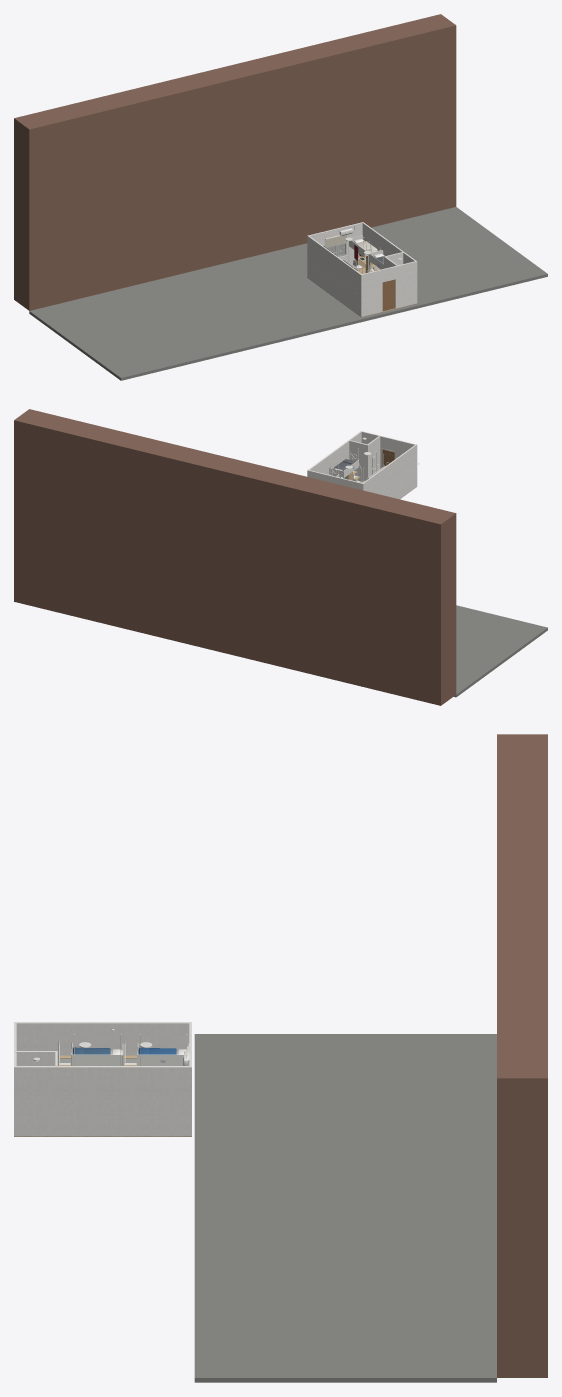
The model's file is dorm_room4_bakein.glb.
The picture shows the model from 3 angles, top to bottom: view 1: azimuth 30°, elevation 25°; view 2: azimuth 150°, elevation 25°; view 3: azimuth 270°, elevation 25°; orthographic projection. The views are drawn at different scales.
Visible parts, largest first — view 1: BAKEONLY_opposite, BAKEONLY_street, WALL_left_wall, WALL_front_wall, WALL_right_wall, WALL_back_wall; view 2: BAKEONLY_opposite, BAKEONLY_street, WALL_left_wall, WALL_right_wall, WALL_front_wall, WALL_bath_n_wall, WALL_back_wall; view 3: BAKEONLY_street, BAKEONLY_opposite, WALL_right_wall, WALL_left_wall.
Part boxes in pixels (x1,y1,x2,y2): BAKEONLY_opposite: [14, 14, 456, 310]; BAKEONLY_street: [29, 207, 547, 380]; WALL_left_wall: [307, 235, 362, 316]; WALL_front_wall: [362, 261, 415, 316]; WALL_right_wall: [362, 222, 417, 303]; WALL_back_wall: [309, 222, 362, 266]; BAKEONLY_opposite: [14, 409, 456, 705]; BAKEONLY_street: [454, 605, 547, 697]; WALL_left_wall: [362, 444, 417, 499]; WALL_right_wall: [307, 431, 362, 476]; WALL_front_wall: [361, 431, 415, 468]; WALL_bath_n_wall: [349, 440, 368, 481]; WALL_back_wall: [308, 470, 362, 489]; BAKEONLY_street: [194, 1034, 496, 1382]; BAKEONLY_opposite: [497, 734, 547, 1377]; WALL_right_wall: [14, 1066, 191, 1136]; WALL_left_wall: [14, 1022, 191, 1065].
Bounding box in the file's own units: 32 × 13.2 × 21.
Materials: 43 (8 with a texture image).
